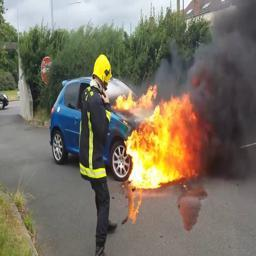fire: (124, 95, 203, 190), (112, 86, 155, 108)
